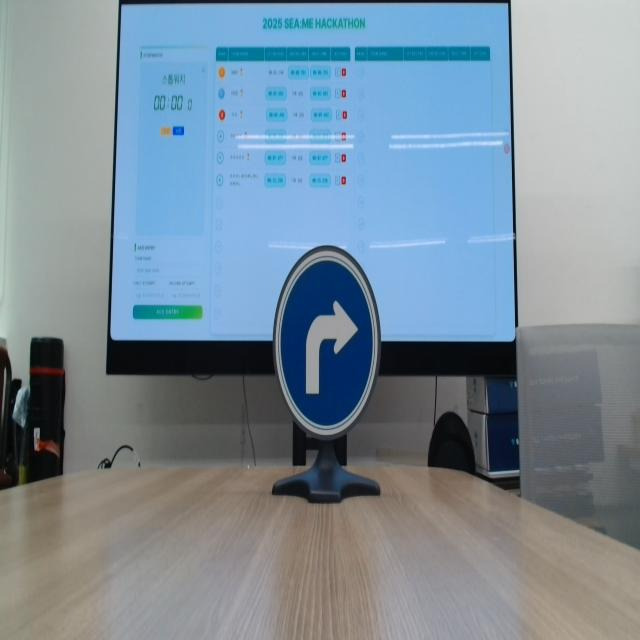right_dierection: (266, 231, 386, 461)
